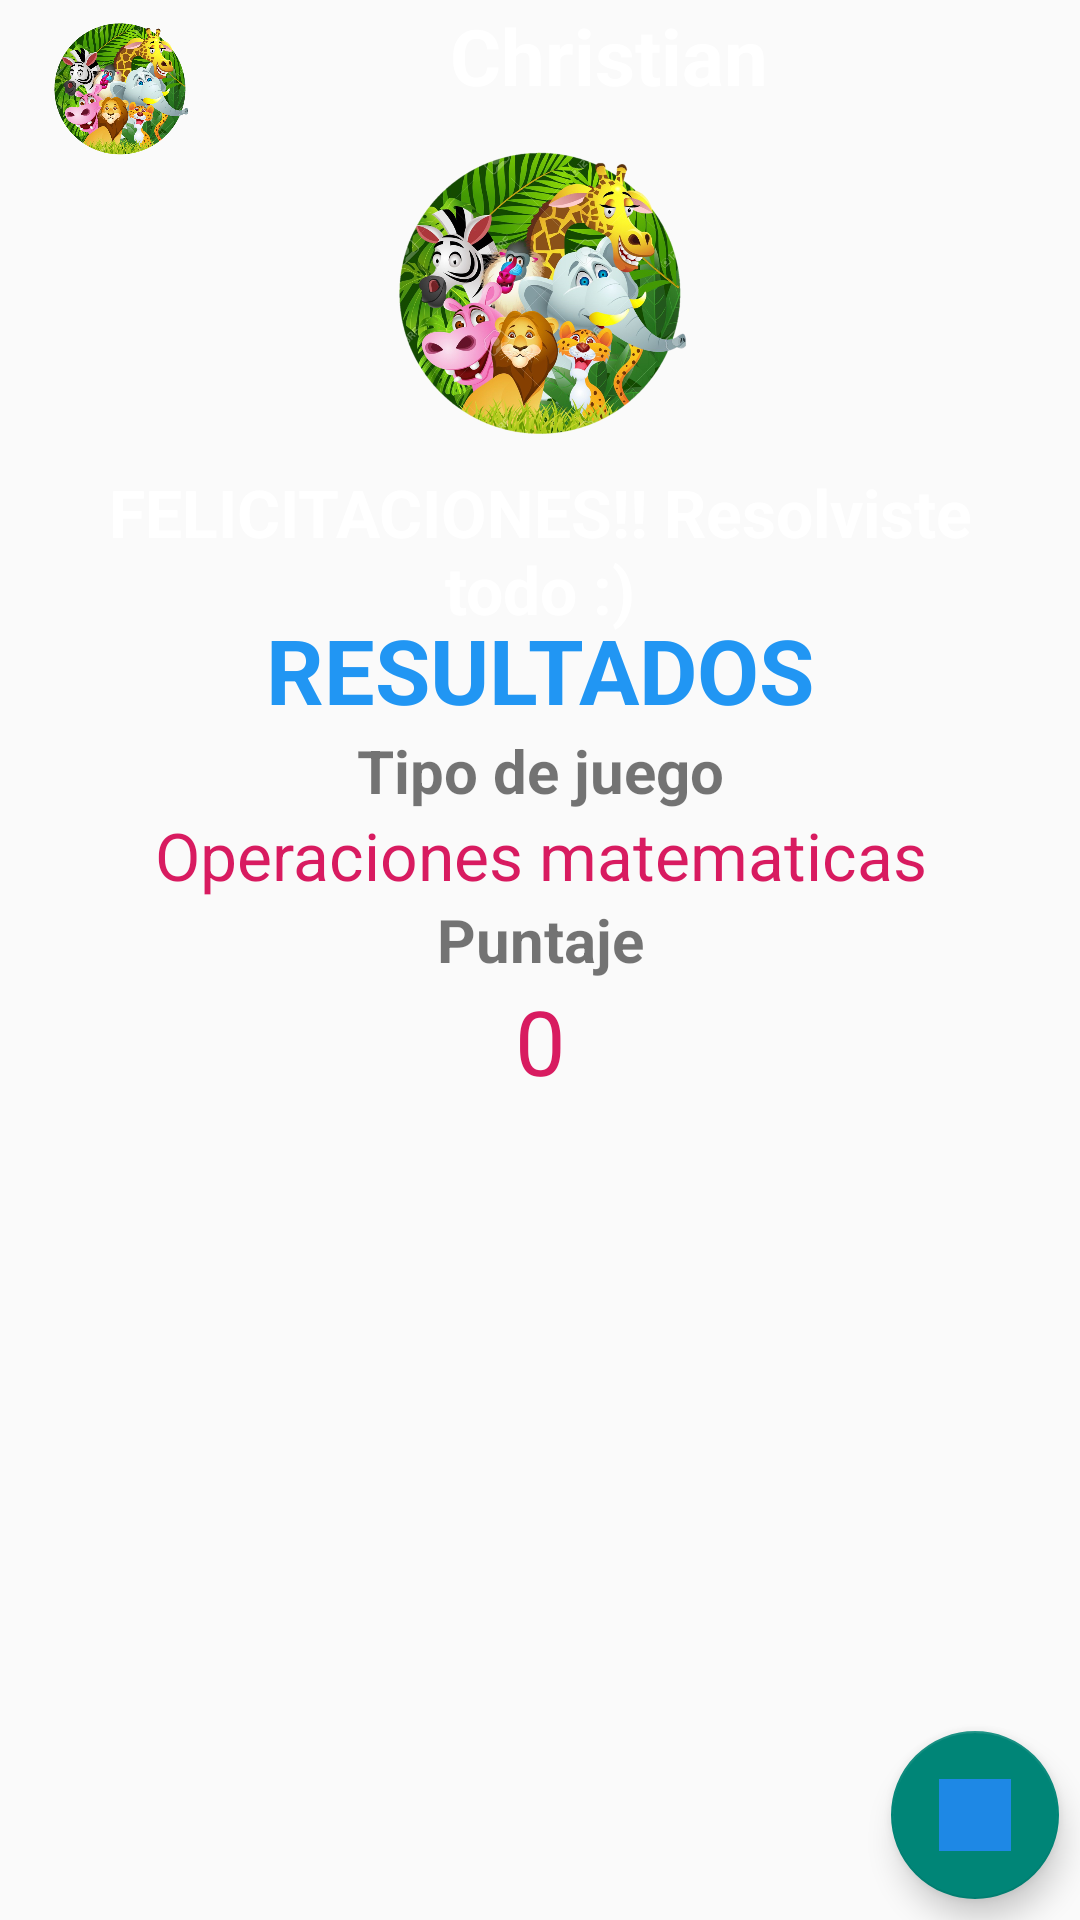

Screen size 1080×1920. Icon name, then its box in pixels as (x1, y1, x2, y2):
animal: (54, 23, 188, 155), (399, 152, 686, 434)
